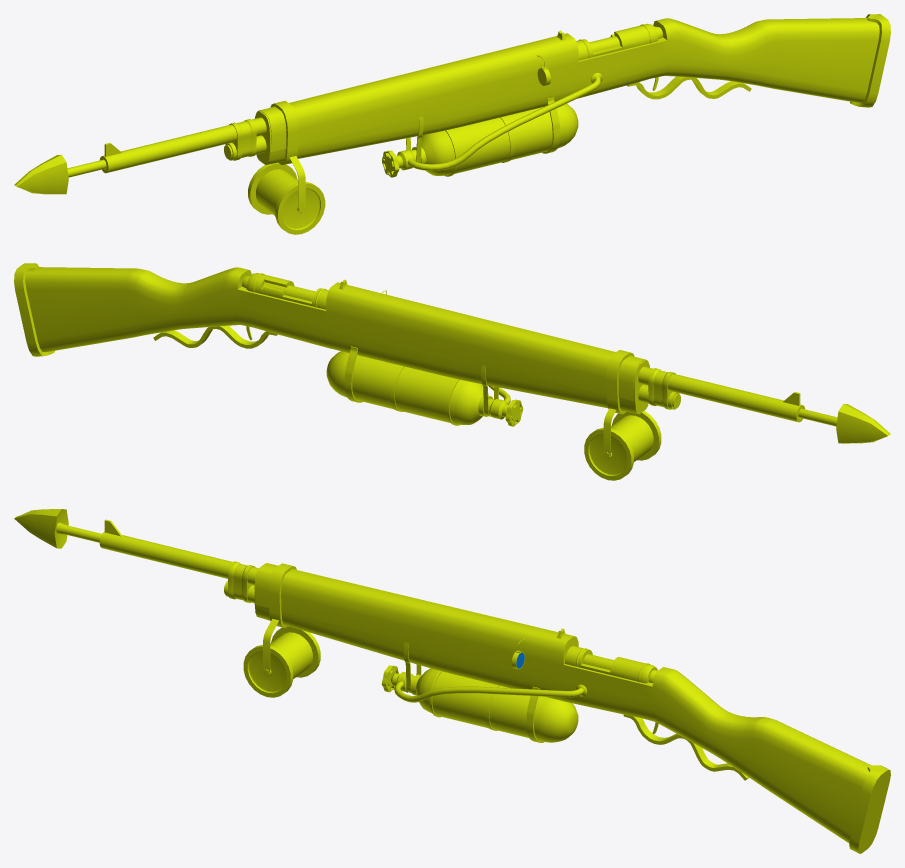
File: Harpoon.fbx
The picture shows the model from 3 angles, top to bottom: view 1: azimuth 30°, elevation 25°; view 2: azimuth 150°, elevation 25°; view 3: azimuth 330°, elevation 25°; orthographic projection.
Visible parts, largest first — view 1: Cylinder.009; view 2: Cylinder.009; view 3: Cylinder.009.
Part boxes in pixels (x1,y1,x2,y2): Cylinder.009: [14, 14, 890, 234]; Cylinder.009: [14, 263, 890, 480]; Cylinder.009: [14, 509, 890, 853].
Size of the model in its own units: 134 by 21.64 by 9.92.
